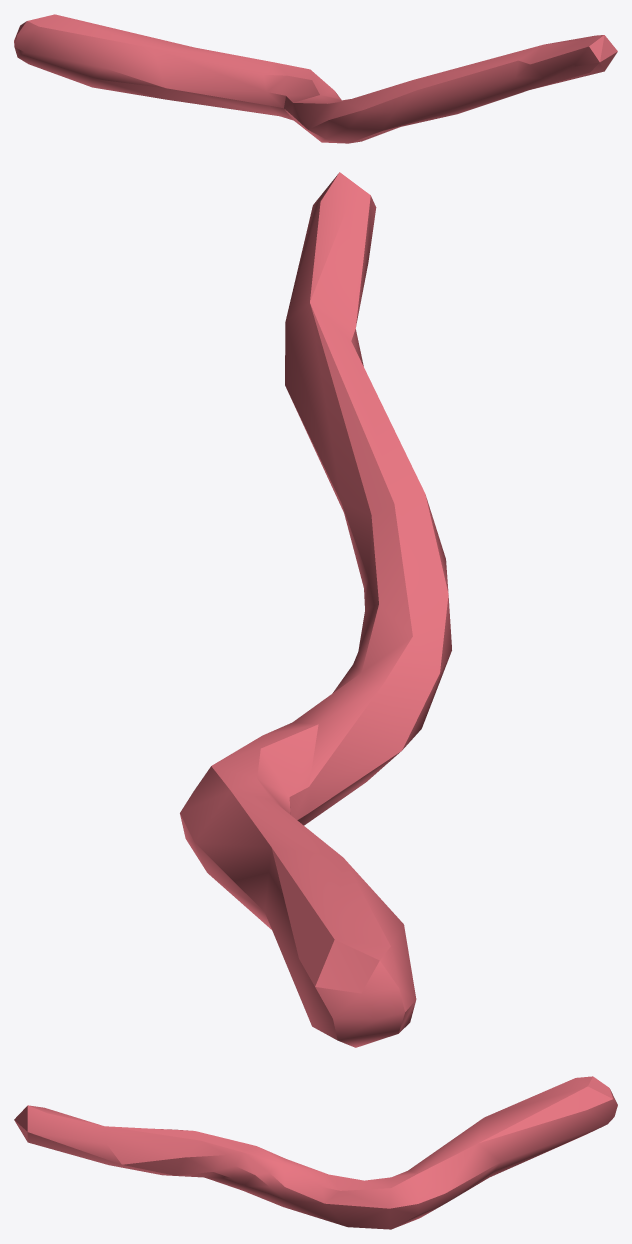
File: fma3840_fj2698.glb
The picture shows the model from 3 angles, top to bottom: view 1: azimuth 30°, elevation 25°; view 2: azimuth 150°, elevation 25°; view 3: azimuth 270°, elevation 25°; orthographic projection. The views are drawn at different scales.
Parts seen in each view (by area): view 1: FMA3840_FJ2698; view 2: FMA3840_FJ2698; view 3: FMA3840_FJ2698.
Boxes of the visible parts, x1=… form: FMA3840_FJ2698: x1=14, y1=14, x2=617, y2=143; FMA3840_FJ2698: x1=180, y1=172, x2=451, y2=1047; FMA3840_FJ2698: x1=14, y1=1076, x2=617, y2=1229.
Bounding box in the file's own units: 0.00565 × 0.00301 × 0.00897.
